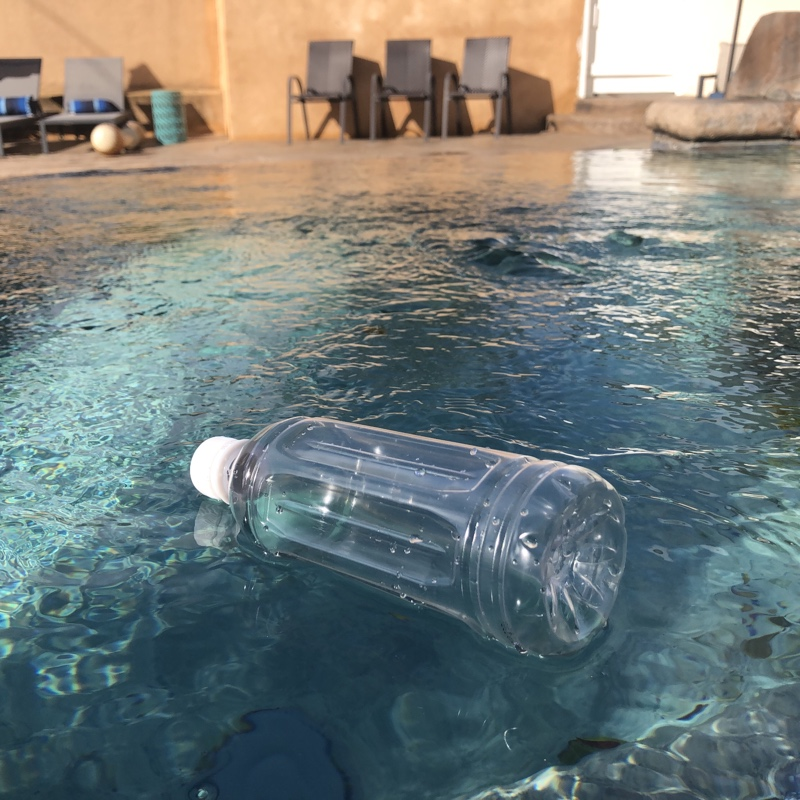Plastic Bottle: (187, 411, 630, 675)
